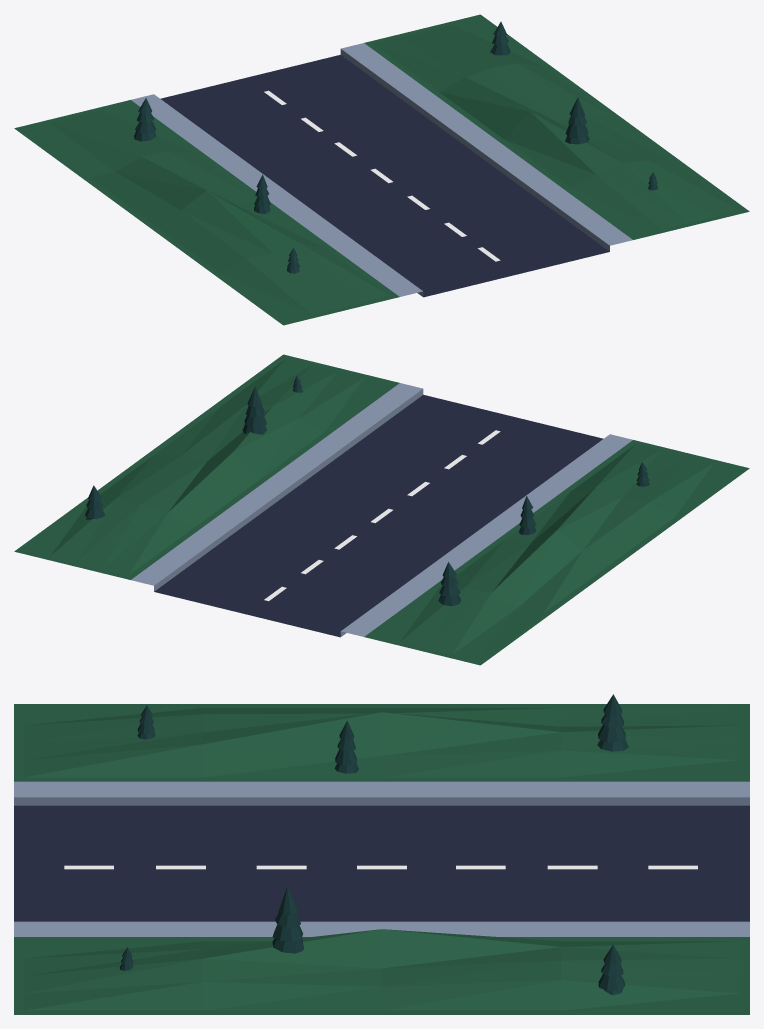
Rendered from Road2.fbx.
3 views of the same model, one above another, from view 1: azimuth 30°, elevation 25°; view 2: azimuth 150°, elevation 25°; view 3: azimuth 270°, elevation 25° (orthographic). The views are drawn at different scales.
Parts seen in each view (by area): view 1: Road2; view 2: Road2; view 3: Road2.
Boxes of the visible parts, left/top/right/bottom form: Road2: left=14, top=14, right=749, bottom=325; Road2: left=14, top=354, right=749, bottom=665; Road2: left=14, top=694, right=749, bottom=1014.
Bounding box in the file's own units: 20 × 2.67 × 20.
